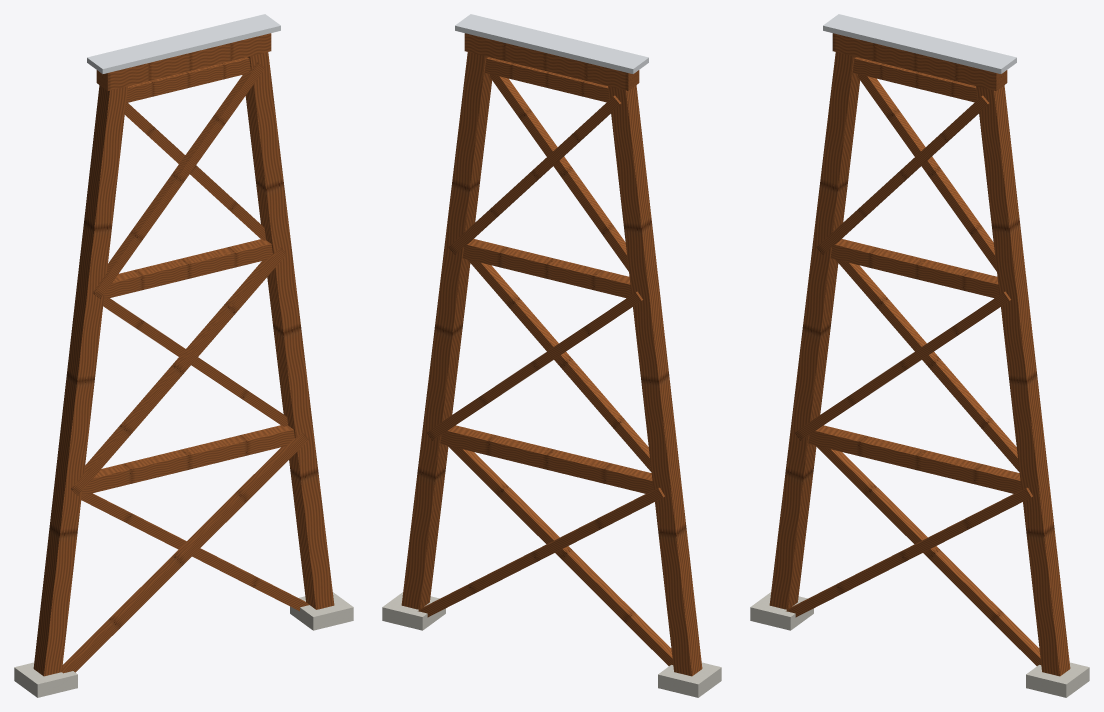
File: theme-park-rides-and-coasters-theme-park-rides-and-coa-63d5e6e8__28650.glb
3 renders of one model, left to right at view 1: azimuth 30°, elevation 25°; view 2: azimuth 150°, elevation 25°; view 3: azimuth 330°, elevation 25°, orthographic.
Visible parts, largest first — view 1: theme-park-rides-and-coasters-trestle-bent-medium; view 2: theme-park-rides-and-coasters-trestle-bent-medium; view 3: theme-park-rides-and-coasters-trestle-bent-medium.
Part boxes in pixels (x1,y1,x2,y2): theme-park-rides-and-coasters-trestle-bent-medium: [14, 14, 353, 697]; theme-park-rides-and-coasters-trestle-bent-medium: [382, 14, 721, 697]; theme-park-rides-and-coasters-trestle-bent-medium: [750, 14, 1089, 697].
Size of the model in its own units: 3.9 by 7.22 by 0.4999.
Materials: 3 (2 with a texture image).
